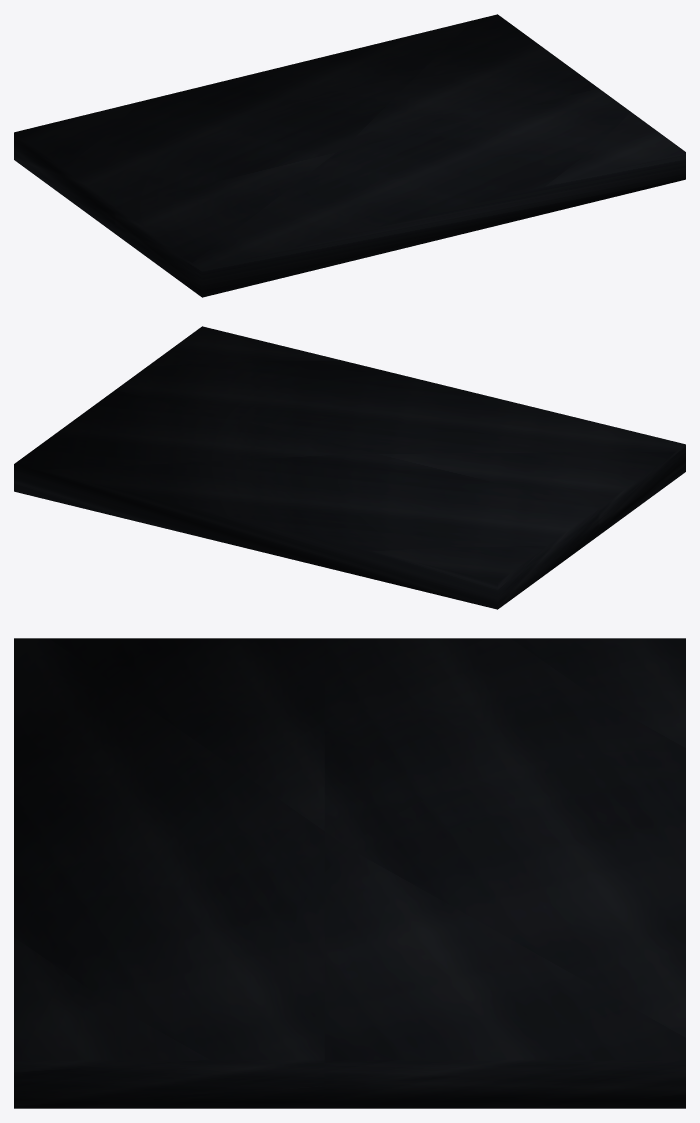
Rendered from WALL_ART_FRAME_001.glb.
3 views of the same model, one above another, from view 1: azimuth 30°, elevation 25°; view 2: azimuth 150°, elevation 25°; view 3: azimuth 270°, elevation 25° (orthographic). The views are drawn at different scales.
Parts seen in each view (by area): view 1: frame_001; view 2: frame_001; view 3: frame_001.
Boxes of the visible parts, x1,y1,x2,y2 form: frame_001: (14,14,685,297); frame_001: (14,326,685,609); frame_001: (14,638,685,1108).
Size of the model in its own units: 0.92 by 0.05 by 0.62.
2 materials, 2 textured.
